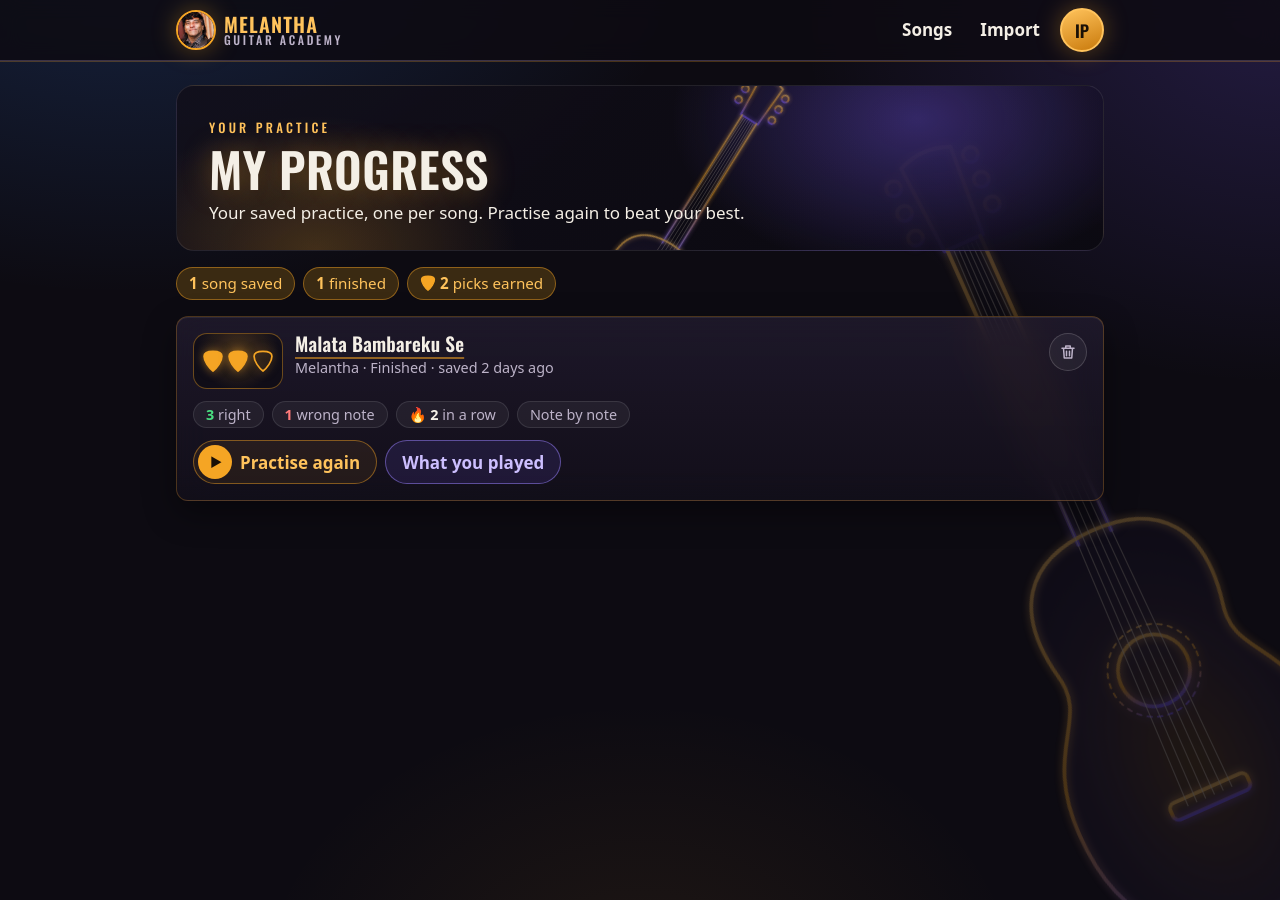
it: My progress › remove asks first
Click the button named "Remove saved practice of Malata Bambareku Se": {"x": 1068, "y": 352} [1049,333,1087,371]
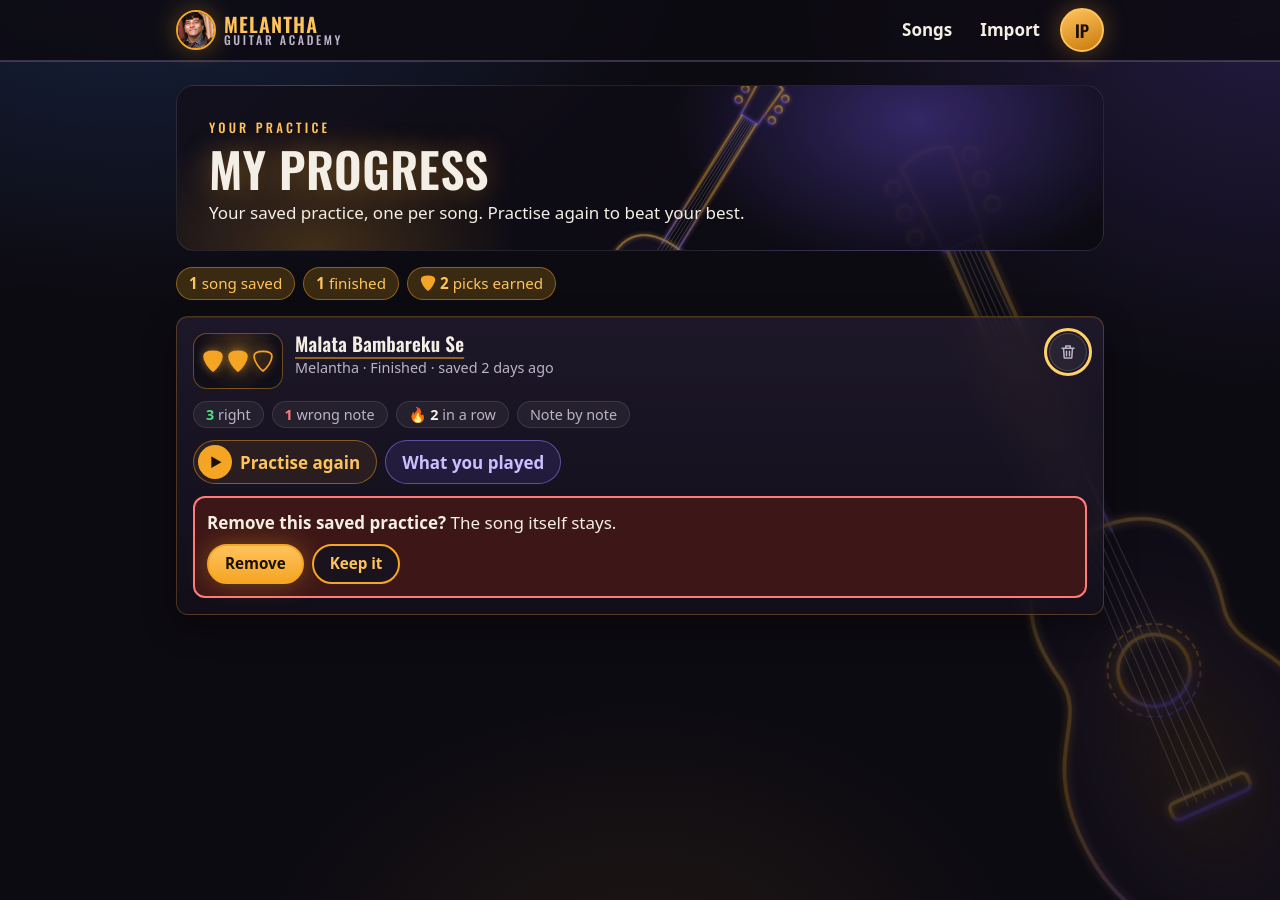
Expected: the dialog shows "The song itself stays.", [446,511,616,534]
Click the button "Remove": {"x": 255, "y": 564} [207,544,304,584]
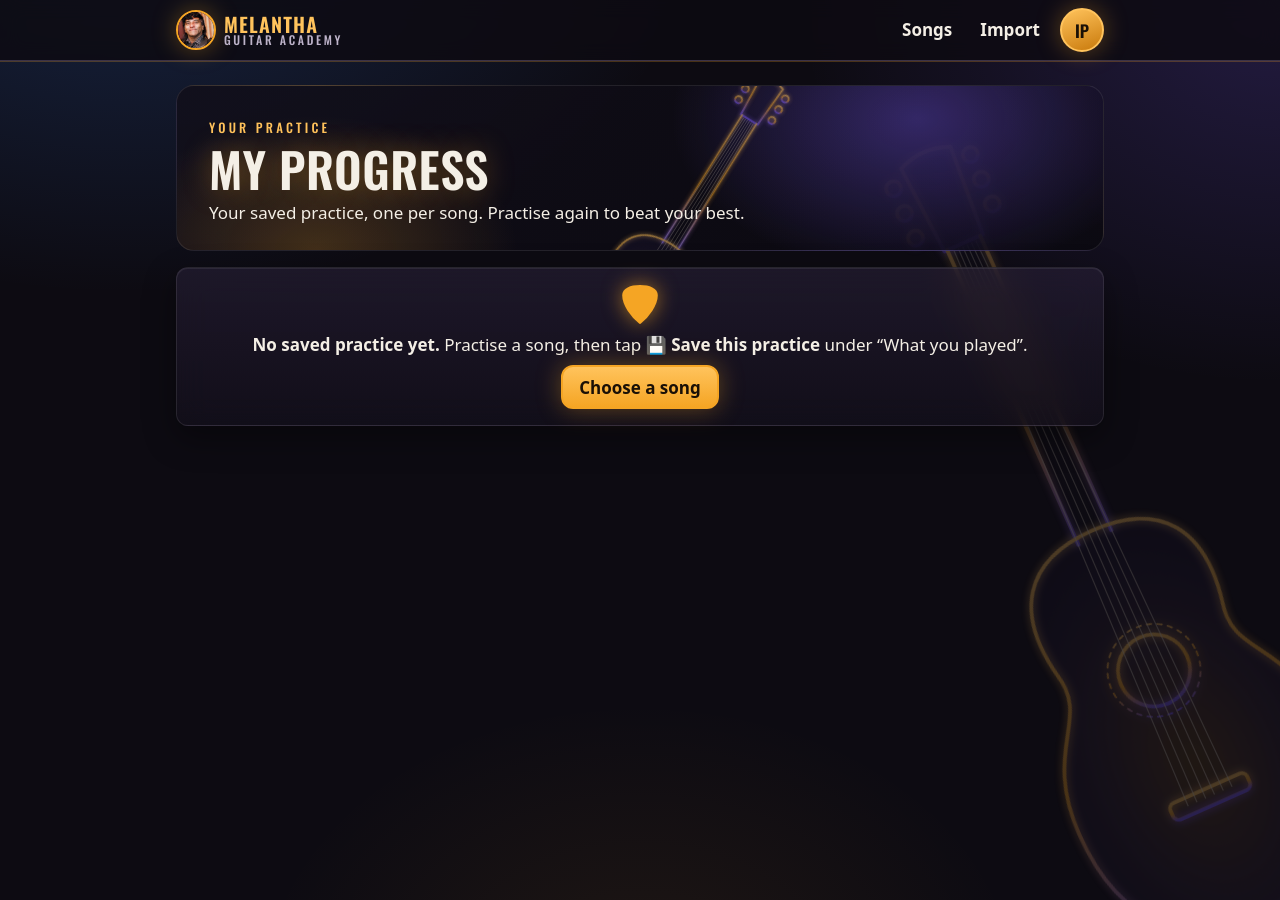
Expected: the text "No saved practice yet." is shown, [252,333,440,356]
